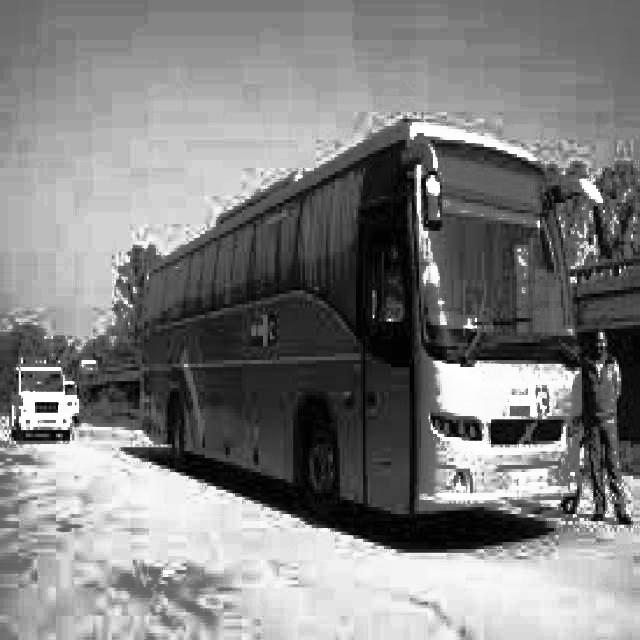Bus: (111, 105, 618, 559)
